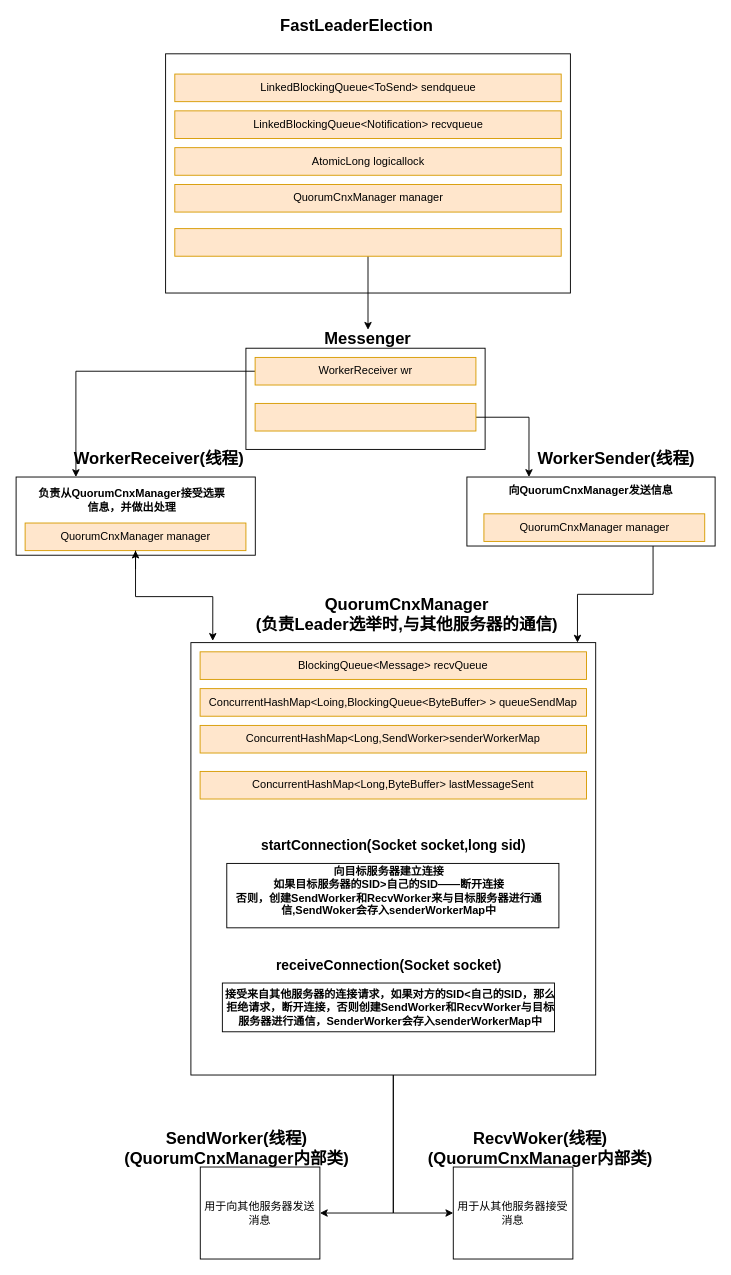
Image size: 731x1275. Some labels were removed from this diagram. The shapes that lost their labels are listed below. From the top down, each one's centre as x and y in pixels, then its label:
point (367, 242): Messenger messenger
point (365, 416): WorkerSender ws
